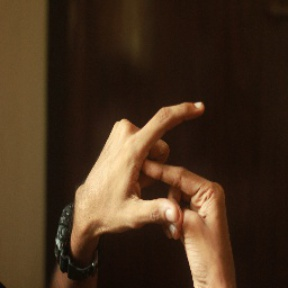E: (122, 88, 214, 240)
